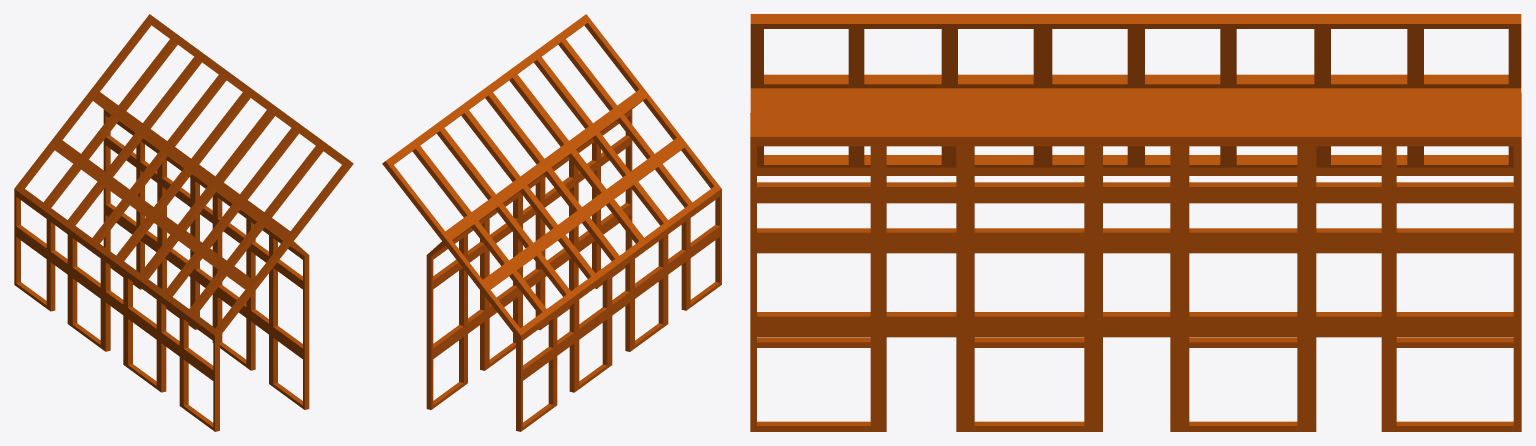
Rendered from hall_mur_entree.fbx.
The picture shows the model from 3 angles, left to right: view 1: azimuth 30°, elevation 25°; view 2: azimuth 150°, elevation 25°; view 3: azimuth 270°, elevation 25°; orthographic projection. The views are drawn at different scales.
Parts seen in each view (by area): view 1: mur_exterieur; view 2: mur_exterieur; view 3: mur_exterieur.
Part boxes in pixels (left/top/right/bottom): mur_exterieur: left=14, top=14, right=353, bottom=431; mur_exterieur: left=382, top=14, right=721, bottom=431; mur_exterieur: left=750, top=14, right=1521, bottom=431.
Bounding box in the file's own units: 726 × 1188 × 1820.
